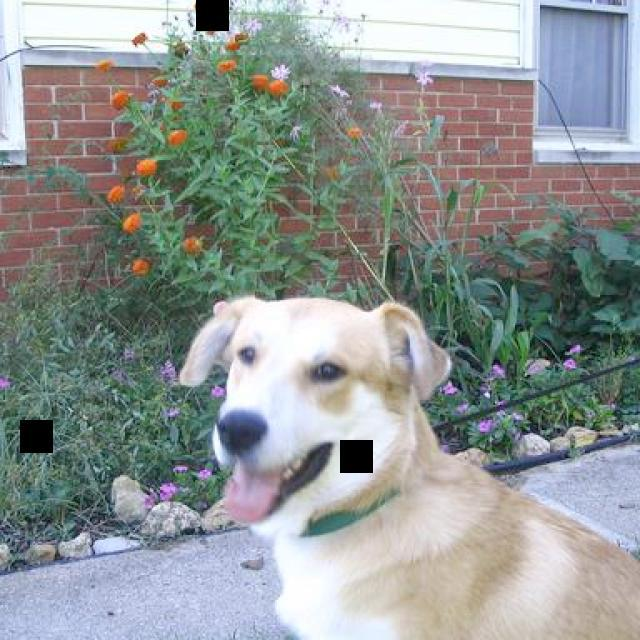adult_dog: (183, 294, 640, 640)
